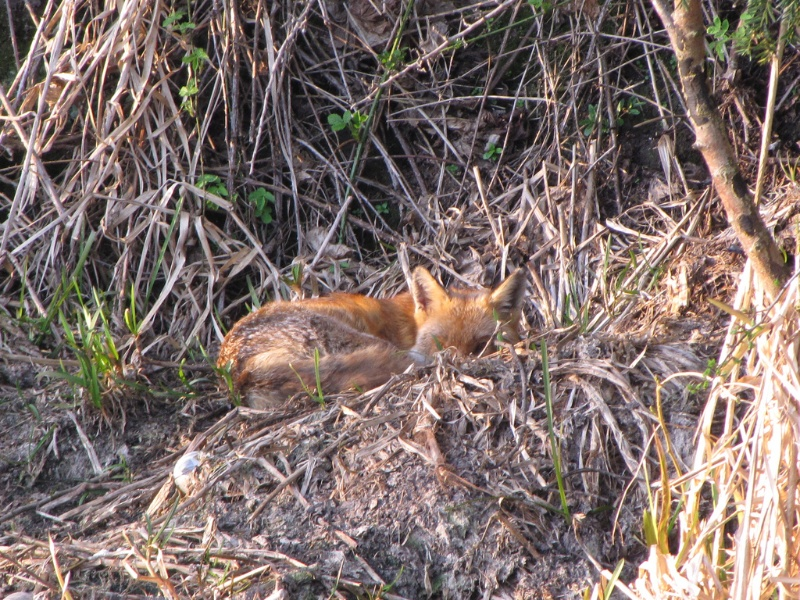fox: (206, 268, 539, 415)
